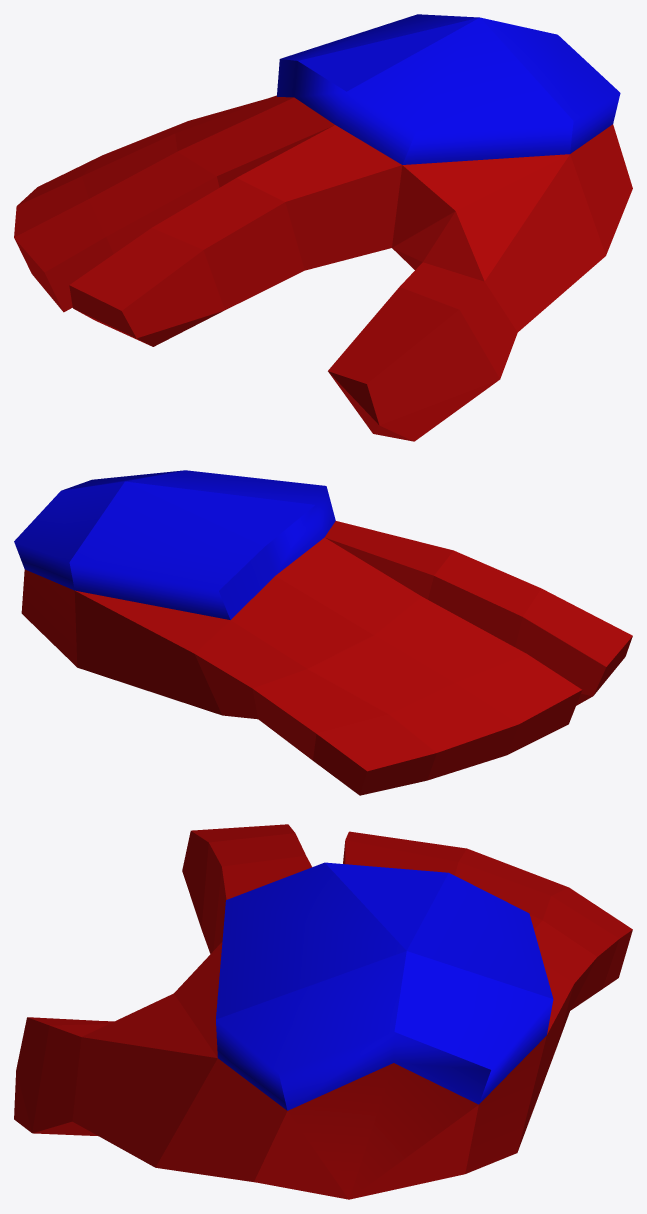
Rendered from Chr_HandRight_Male_Static_16.fbx.
The picture shows the model from 3 angles, top to bottom: view 1: azimuth 30°, elevation 25°; view 2: azimuth 150°, elevation 25°; view 3: azimuth 270°, elevation 25°; orthographic projection. The views are drawn at different scales.
Parts seen in each view (by area): view 1: Chr_HandRight_Male_16; view 2: Chr_HandRight_Male_16; view 3: Chr_HandRight_Male_16.
Boxes of the visible parts, box(x1,y1,x2,y2) form: Chr_HandRight_Male_16: box(14, 14, 632, 441); Chr_HandRight_Male_16: box(14, 470, 632, 795); Chr_HandRight_Male_16: box(14, 824, 632, 1199).
Size of the model in its own units: 23.35 by 10.83 by 18.8.
